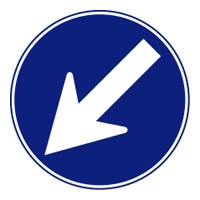Direction_sign: (2, 2, 197, 192)
